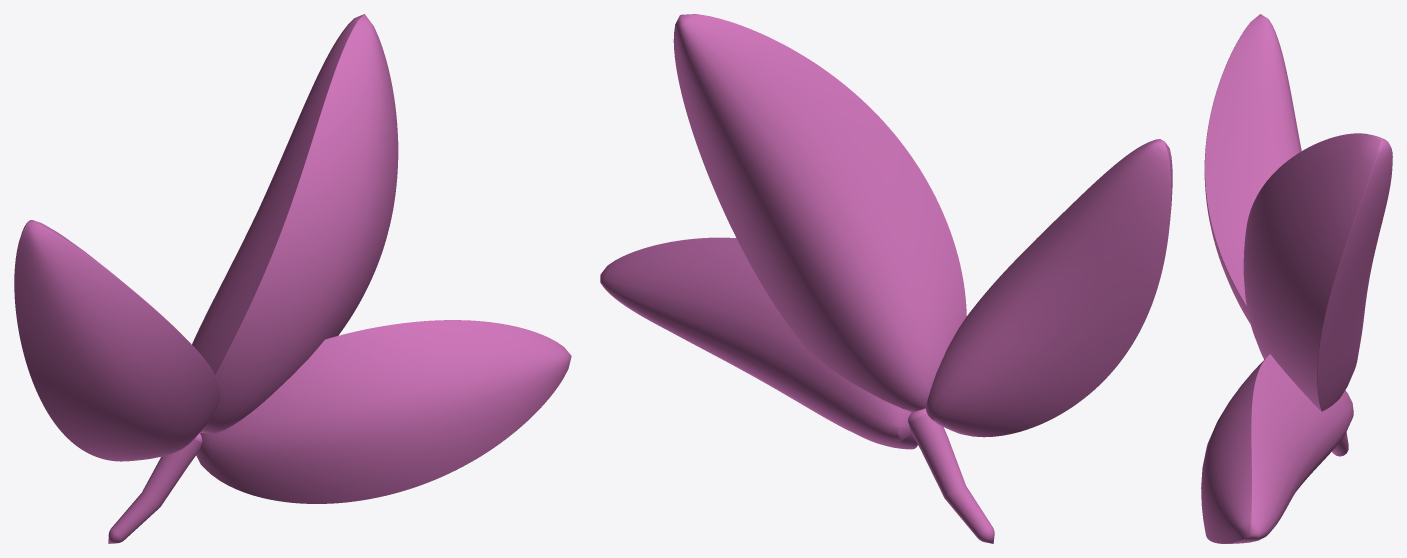
File: leaf-cluster.glb
The picture shows the model from 3 angles, left to right: view 1: azimuth 30°, elevation 25°; view 2: azimuth 150°, elevation 25°; view 3: azimuth 270°, elevation 25°; orthographic projection. The views are drawn at different scales.
Parts seen in each view (by area): view 1: Leaf2, Leaf1, Leaf0, Stem; view 2: Leaf1, Leaf0, Leaf2, Stem; view 3: Leaf1, Leaf2, Leaf0.
Boxes of the visible parts, x1,y1,x2,y2 form: Leaf2: (196, 320, 571, 503); Leaf1: (192, 14, 398, 433); Leaf0: (14, 220, 220, 461); Stem: (108, 433, 202, 543); Leaf1: (673, 14, 966, 412); Leaf0: (926, 139, 1172, 437); Leaf2: (600, 237, 917, 449); Stem: (908, 408, 994, 543); Leaf1: (1243, 133, 1392, 411); Leaf2: (1201, 354, 1353, 543); Leaf0: (1204, 14, 1301, 324).
Size of the model in its own units: 1.57 by 1.22 by 0.4764.
